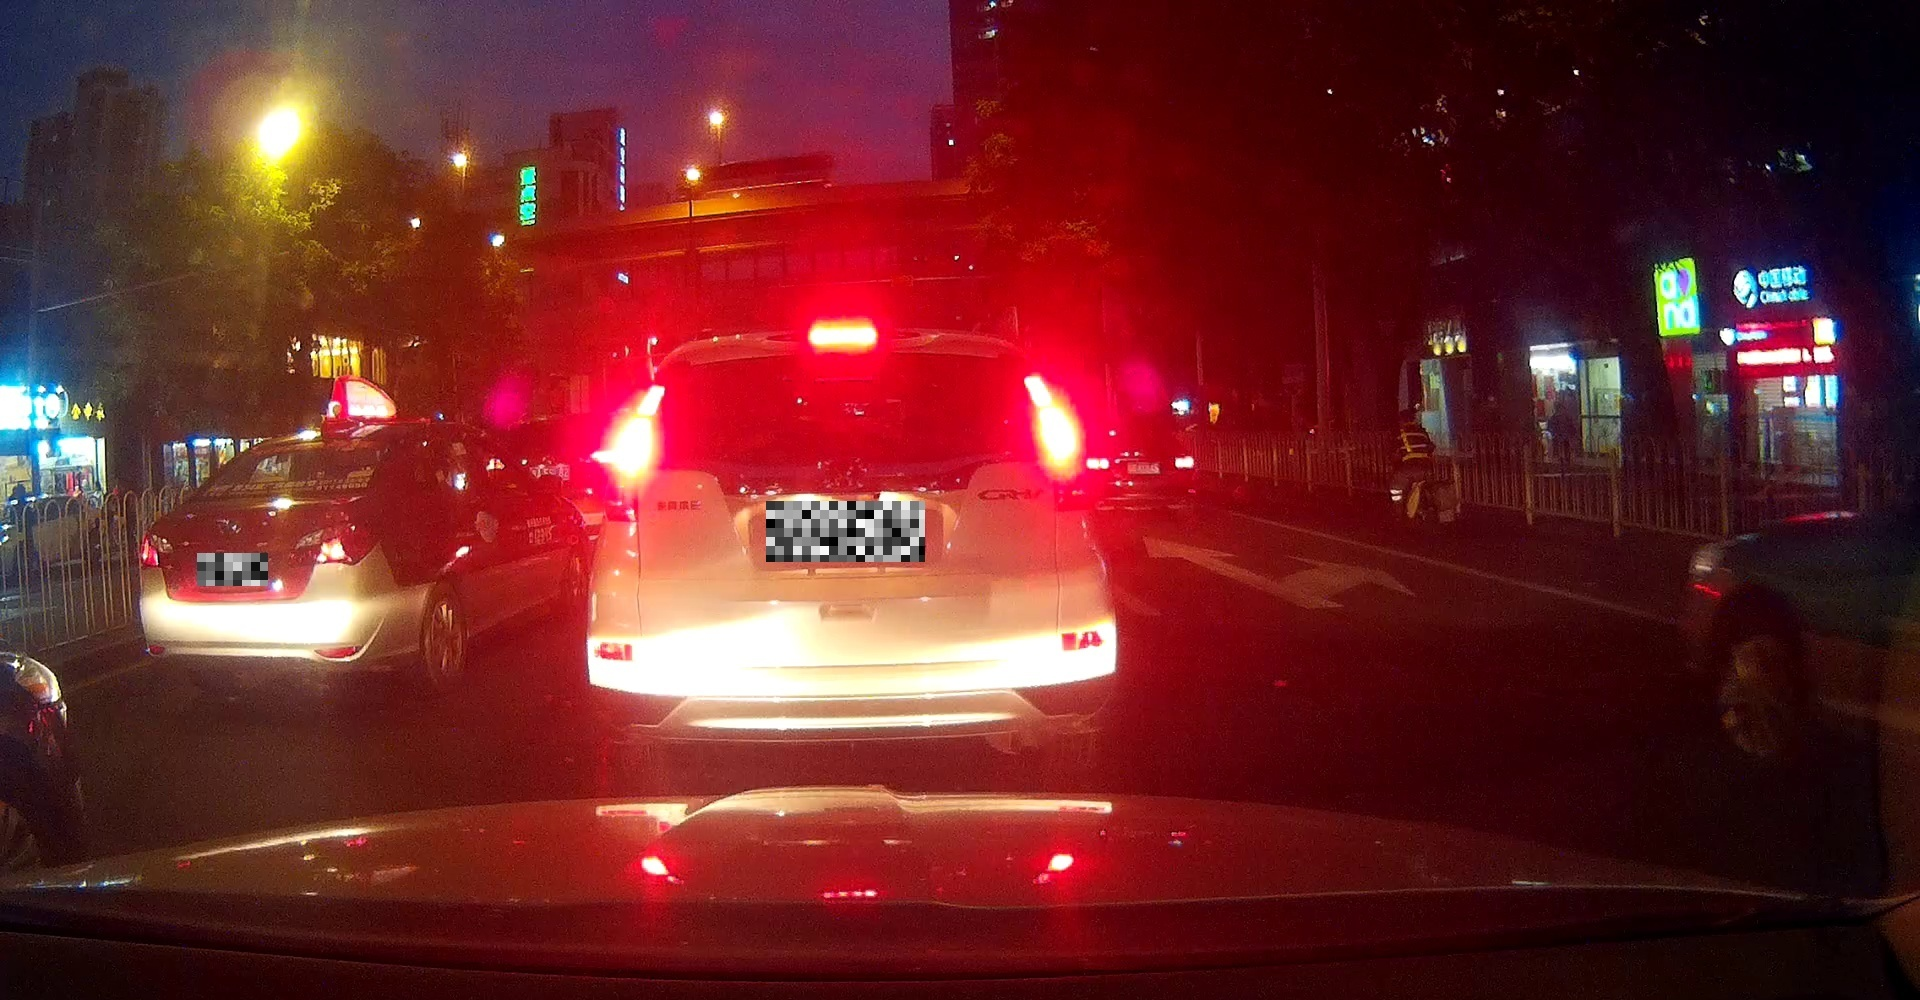L_light: (596, 411, 654, 523), (135, 528, 182, 572)
R_light: (1031, 395, 1090, 513), (284, 522, 382, 565)
T_light: (808, 322, 879, 352), (292, 440, 333, 449)
night-brake: (583, 319, 1115, 770)
night-no: (135, 425, 409, 698)
plate_1: (197, 553, 268, 586)
plate_2: (766, 501, 924, 562)
